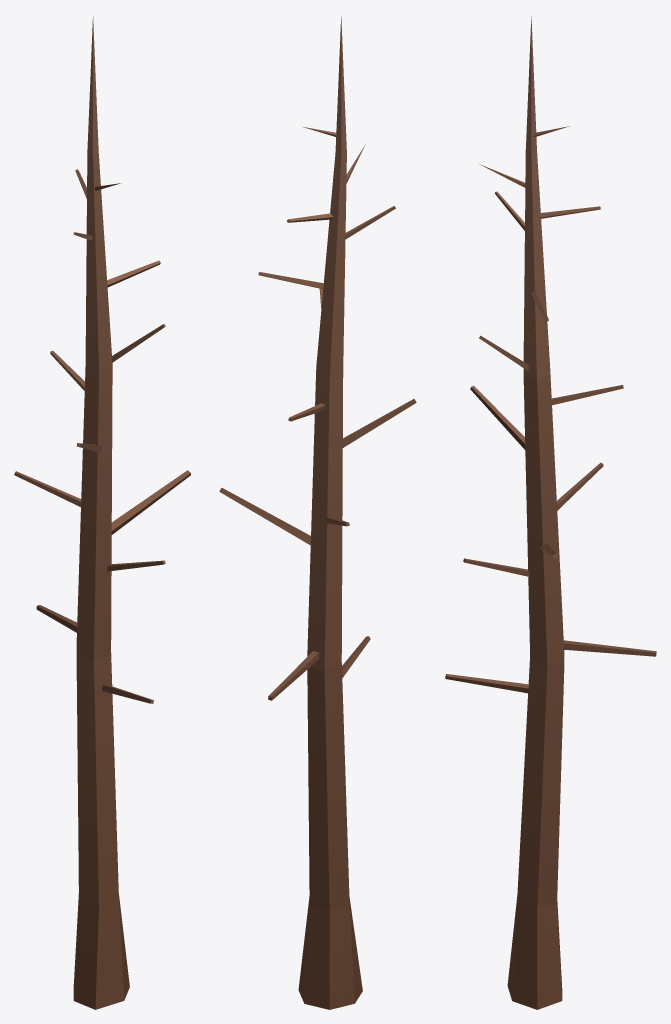
The model's file is Tree_03.fbx.
3 views of the same model, side by side, from view 1: azimuth 30°, elevation 25°; view 2: azimuth 150°, elevation 25°; view 3: azimuth 270°, elevation 25° (orthographic).
Visible parts, largest first — view 1: Tree_03_LOD0; view 2: Tree_03_LOD0; view 3: Tree_03_LOD0.
Boxes of the visible parts, x1,y1,x2,y2 form: Tree_03_LOD0: (14,16,190,1009); Tree_03_LOD0: (219,16,416,1009); Tree_03_LOD0: (445,16,656,1009).
Size of what is drawn, in the model's own units: 120 by 723 by 142.
